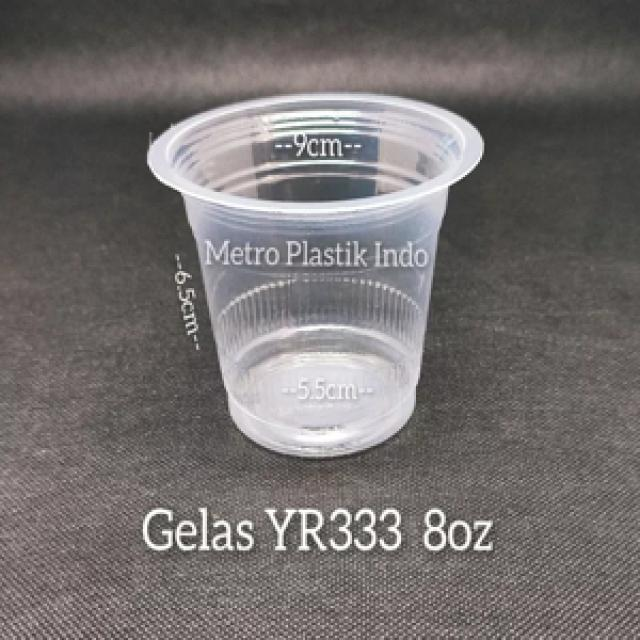plastic cup: (138, 85, 492, 468)
